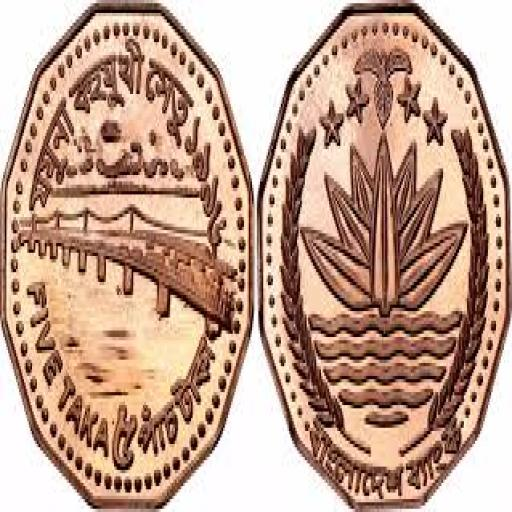5taka: (0, 0, 252, 506), (258, 3, 509, 506)
